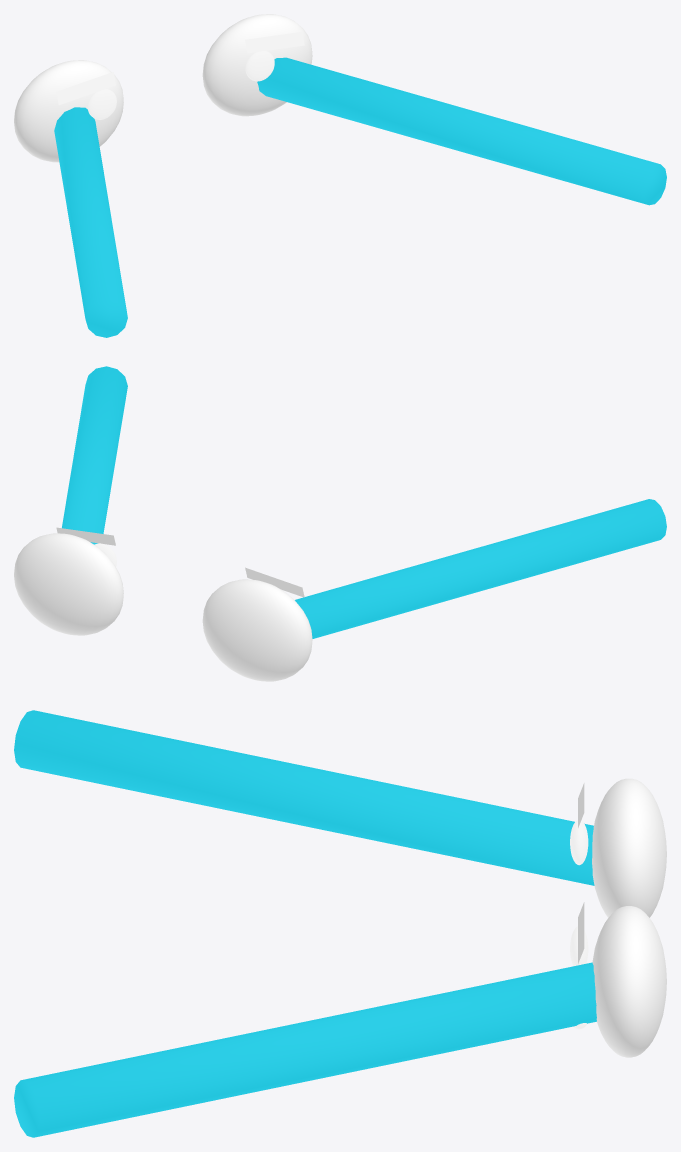
File: trait-eyes-cyan-laser.glb
3 views of the same model, one above another, from view 1: azimuth 30°, elevation 25°; view 2: azimuth 150°, elevation 25°; view 3: azimuth 270°, elevation 25° (orthographic). The views are drawn at different scales.
Parts seen in each view (by area): view 1: trait_eye_beam_R, trait_eye_beam_L, trait_eye_R, trait_eye_L, trait_eye_lash_L, trait_eye_lash_R, trait_eye_glint_R, trait_eye_glint_L; view 2: trait_eye_beam_L, trait_eye_L, trait_eye_R, trait_eye_beam_R, trait_eye_lash_L, trait_eye_lash_R; view 3: trait_eye_beam_R, trait_eye_beam_L, trait_eye_R, trait_eye_L, trait_eye_glint_L.
Part boxes in pixels (bbox=[...]): trait_eye_beam_R: bbox=[257, 57, 666, 205]; trait_eye_beam_L: bbox=[54, 107, 127, 337]; trait_eye_R: bbox=[202, 14, 312, 116]; trait_eye_L: bbox=[14, 60, 123, 162]; trait_eye_lash_L: bbox=[56, 72, 115, 105]; trait_eye_lash_R: bbox=[245, 32, 304, 53]; trait_eye_glint_R: bbox=[245, 51, 274, 81]; trait_eye_glint_L: bbox=[88, 89, 116, 119]; trait_eye_beam_L: bbox=[295, 499, 666, 638]; trait_eye_L: bbox=[202, 579, 312, 681]; trait_eye_R: bbox=[14, 533, 123, 635]; trait_eye_beam_R: bbox=[62, 366, 127, 544]; trait_eye_lash_L: bbox=[245, 567, 304, 597]; trait_eye_lash_R: bbox=[56, 527, 115, 545]; trait_eye_beam_R: bbox=[14, 962, 596, 1137]; trait_eye_beam_L: bbox=[14, 710, 594, 885]; trait_eye_R: bbox=[592, 906, 666, 1057]; trait_eye_L: bbox=[592, 778, 666, 917]; trait_eye_glint_L: bbox=[570, 820, 588, 865].
Size of the model in its own units: 1.42 by 0.2262 by 0.9965.
